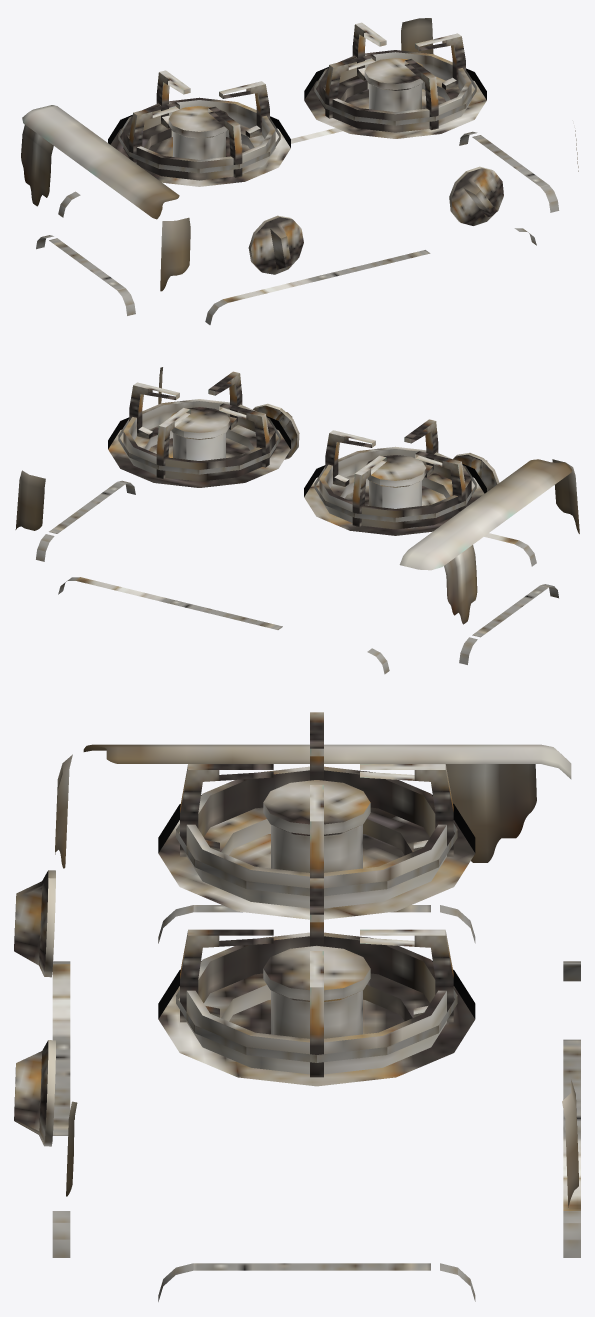
File: gaz_plita_small.obj
3 views of the same model, one above another, from view 1: azimuth 30°, elevation 25°; view 2: azimuth 150°, elevation 25°; view 3: azimuth 270°, elevation 25° (orthographic). The views are drawn at different scales.
Parts seen in each view (by area): view 1: 1.001, 0.002; view 2: 1.001, 0.002; view 3: 1.001, 0.002.
Part boxes in pixels (bbox=[...]): 1.001: bbox=[21, 18, 578, 324]; 0.002: bbox=[108, 67, 486, 147]; 1.001: bbox=[15, 367, 579, 674]; 0.002: bbox=[108, 416, 486, 496]; 1.001: bbox=[14, 712, 580, 1301]; 0.002: bbox=[158, 795, 475, 1018].
Bounding box in the file's own units: 0.7078 × 0.2436 × 0.4638.
